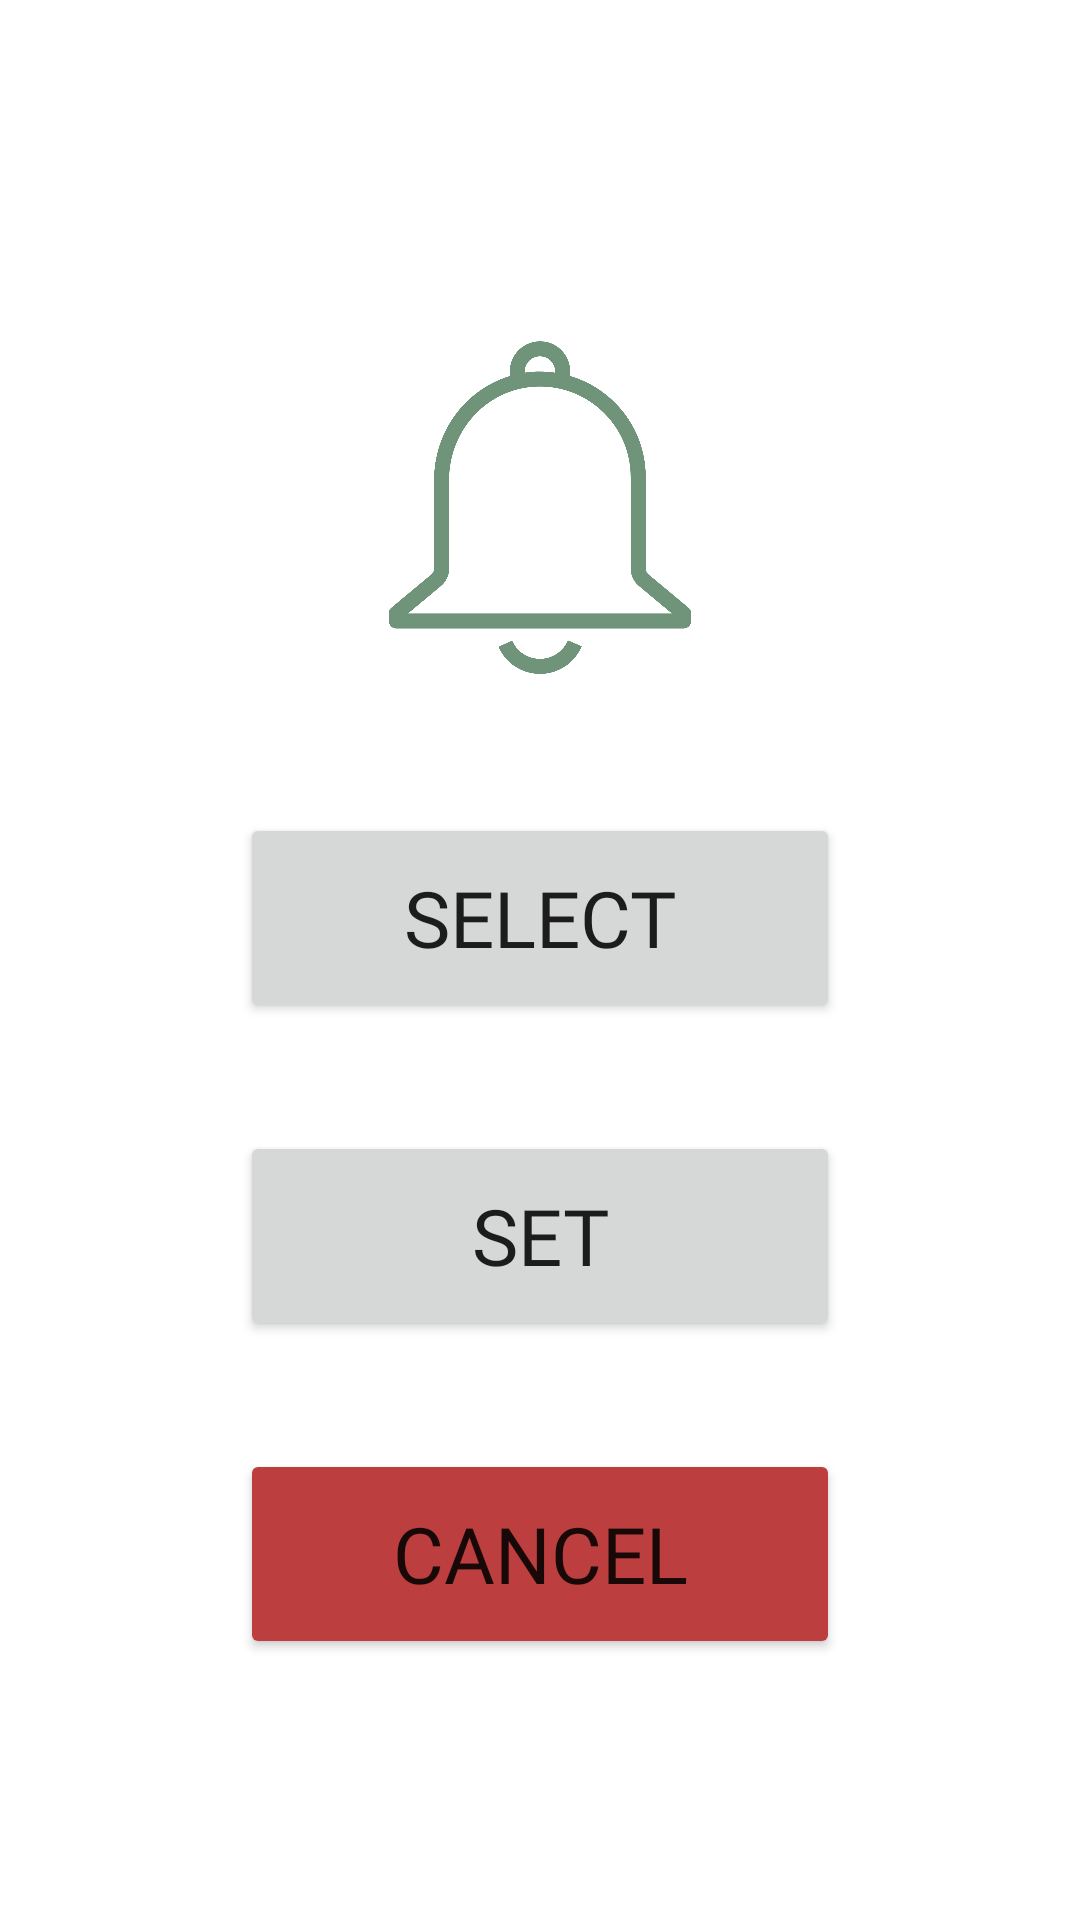

Where icons sit on this 1080px×1920px app screen, as (x1, y1, x2, y2):
Reminder: (389, 341, 691, 674)
